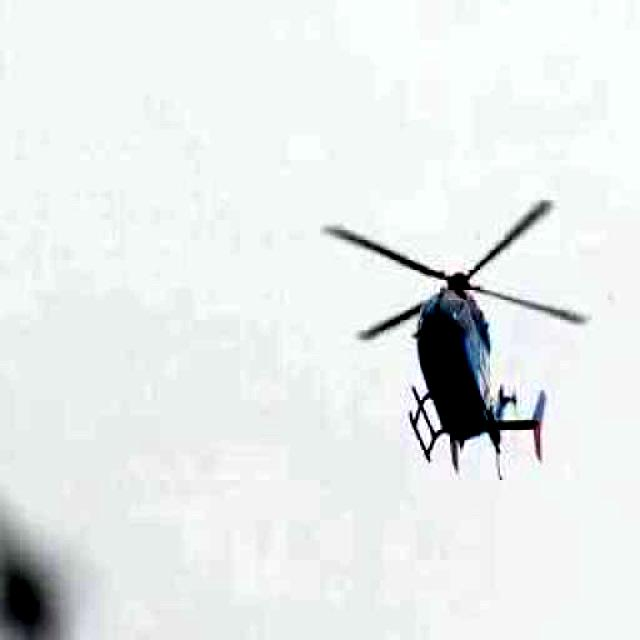drone: (306, 176, 614, 504)
